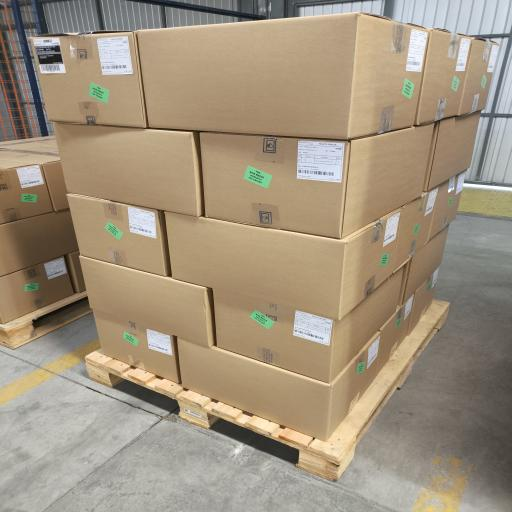pallet: (86, 301, 449, 480), (0, 292, 92, 348)
